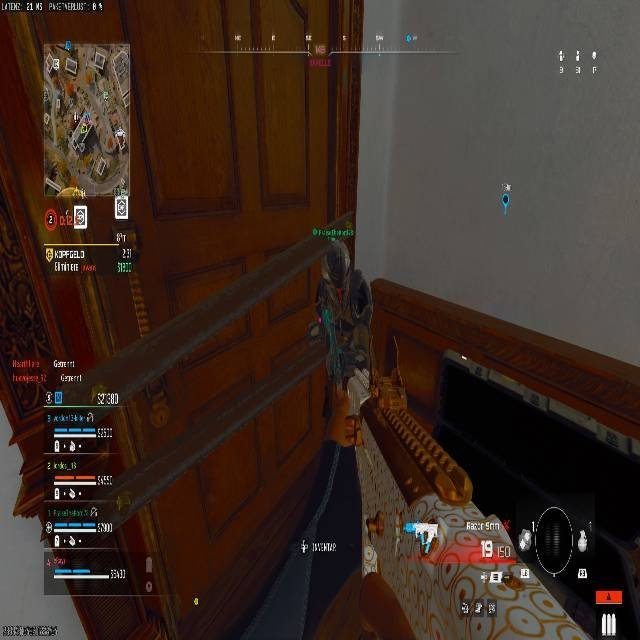head: (321, 247, 349, 284)
player: (310, 245, 374, 409)
